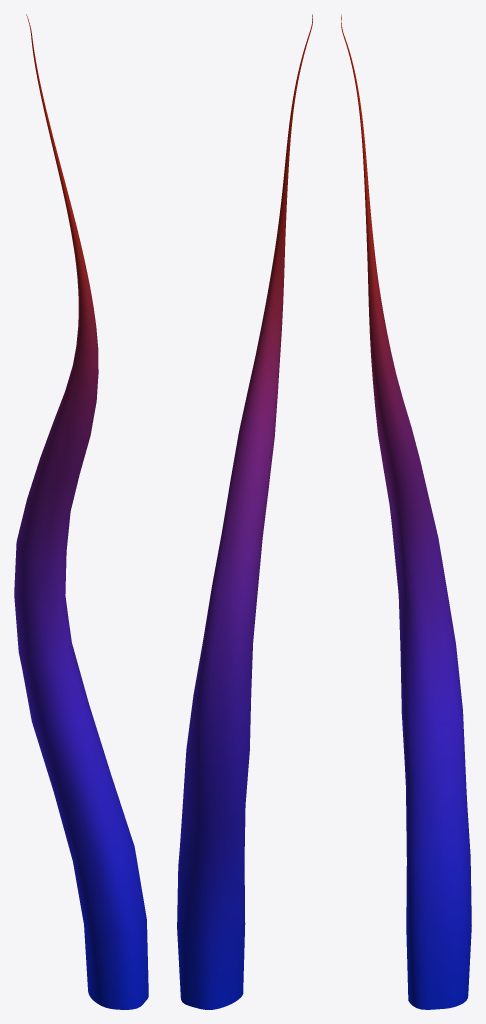
File: Tentacle_A.fbx
3 renders of one model, left to right at view 1: azimuth 30°, elevation 25°; view 2: azimuth 150°, elevation 25°; view 3: azimuth 330°, elevation 25°, orthographic. The views are drawn at different scales.
Visible parts, largest first — view 1: Tentacle_A_LOD0; view 2: Tentacle_A_LOD0; view 3: Tentacle_A_LOD0.
Part boxes in pixels (x1=…): Tentacle_A_LOD0: x1=14, y1=14, x2=148, y2=1009; Tentacle_A_LOD0: x1=177, y1=14, x2=312, y2=1009; Tentacle_A_LOD0: x1=341, y1=14, x2=471, y2=1009.
Size of what is drawn, in the model's own units: 3.11 by 24.19 by 2.87.
